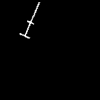double_crochet: (20, 4, 38, 37)
